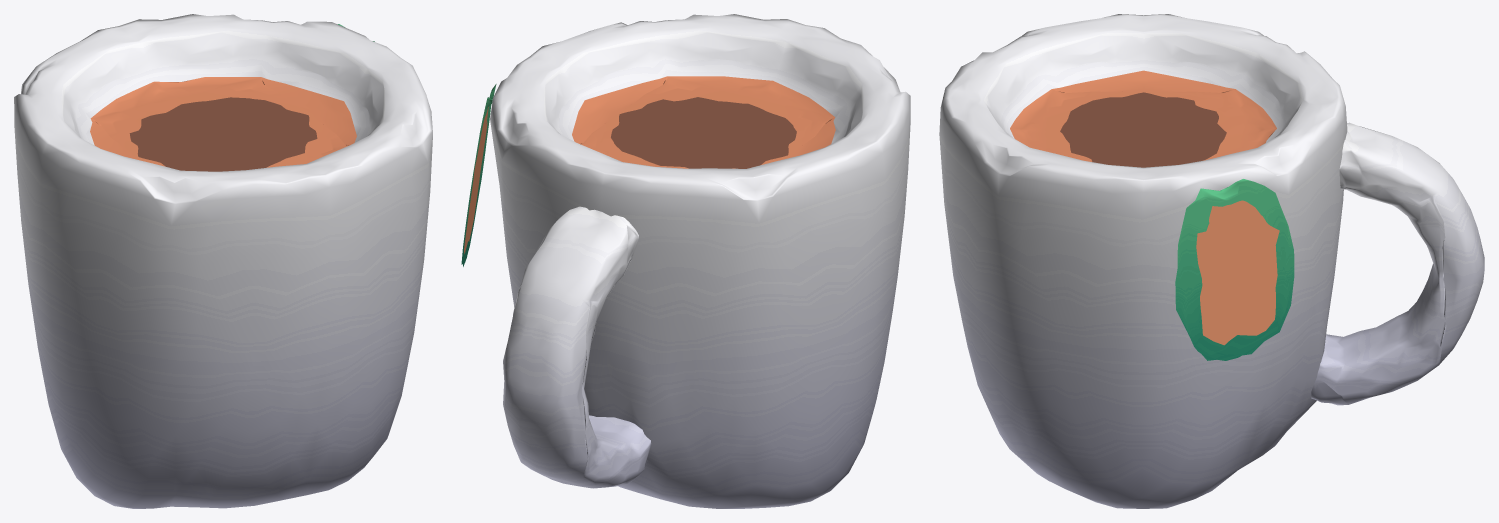
The picture shows the model from 3 angles, left to right: view 1: azimuth 30°, elevation 25°; view 2: azimuth 150°, elevation 25°; view 3: azimuth 270°, elevation 25°; orthographic projection. The views are drawn at different scales.
Bounding box in the file's own units: 0.7545 × 0.6846 × 0.9468.
Materials: 1 (1 with a texture image).
